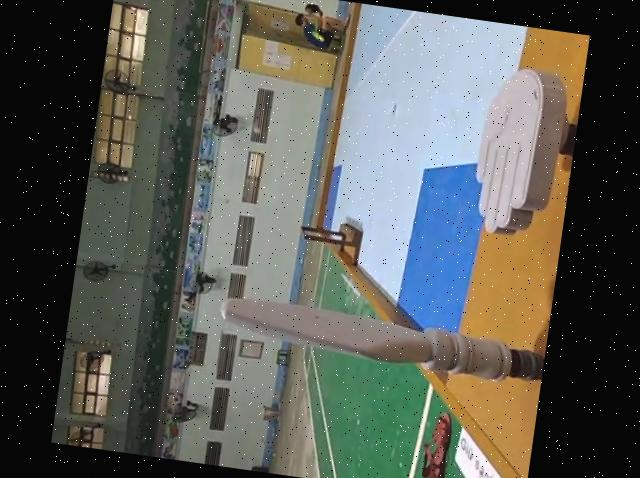Hand: (460, 63, 584, 248)
Sph: (212, 290, 548, 392)
